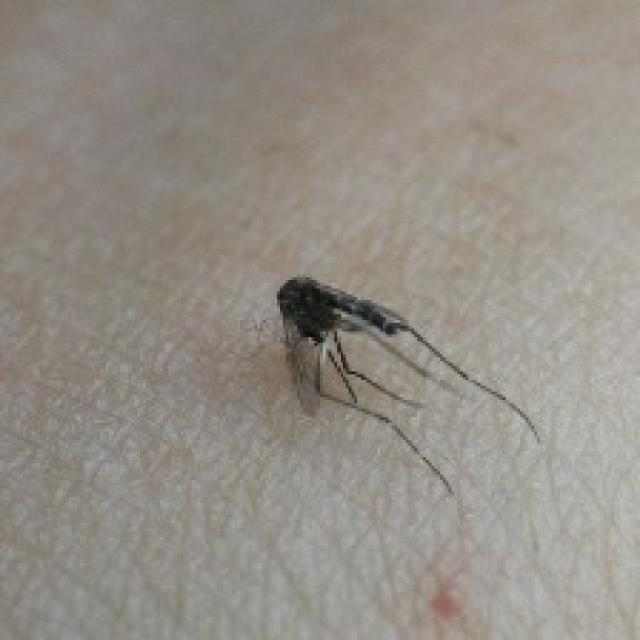aedes: (271, 272, 540, 497)
